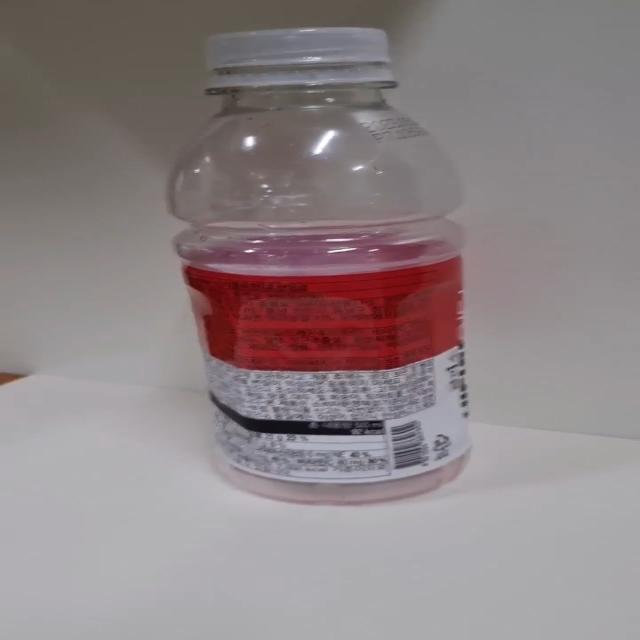Plastic: (164, 27, 474, 508)
